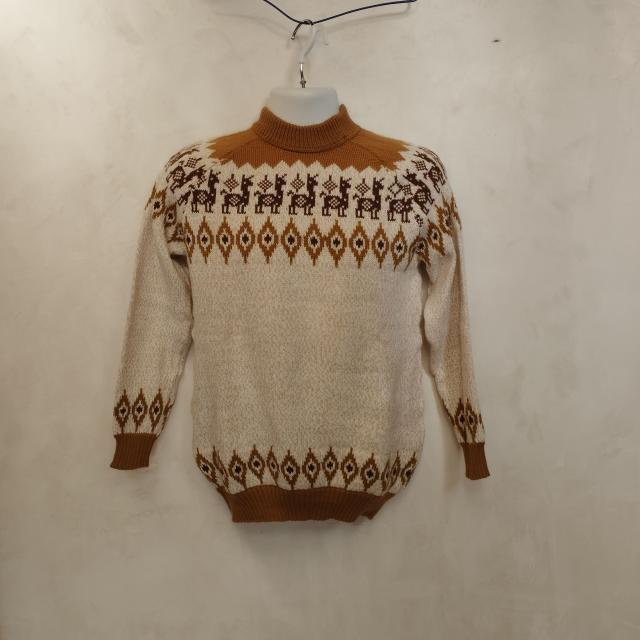Chompa: (110, 88, 490, 524)
